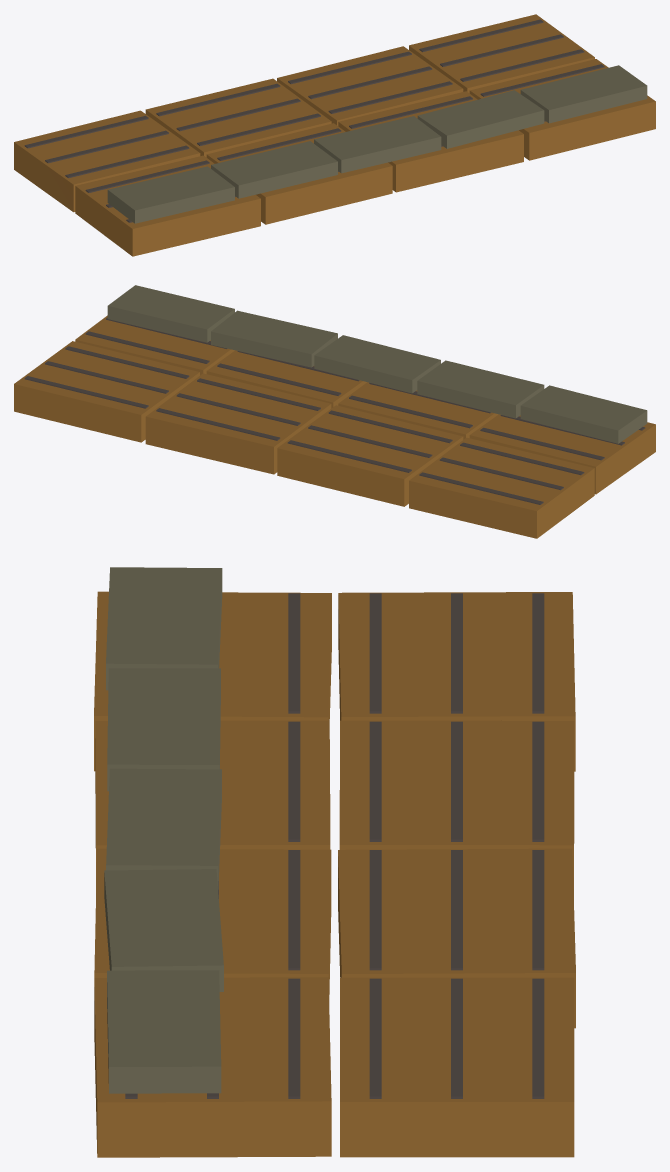
The model's file is SM_Banqueta_v0_LOD0.fbx.
The picture shows the model from 3 angles, top to bottom: view 1: azimuth 30°, elevation 25°; view 2: azimuth 150°, elevation 25°; view 3: azimuth 270°, elevation 25°; orthographic projection. The views are drawn at different scales.
Parts seen in each view (by area): view 1: SM_banqueta_tiro_v0_LOD0; view 2: SM_banqueta_tiro_v0_LOD0; view 3: SM_banqueta_tiro_v0_LOD0.
Boxes of the visible parts, x1,y1,x2,y2 form: SM_banqueta_tiro_v0_LOD0: (14, 14, 655, 256); SM_banqueta_tiro_v0_LOD0: (14, 285, 655, 538); SM_banqueta_tiro_v0_LOD0: (94, 567, 575, 1157).
Bounding box in the file's own units: 4.95 × 0.385 × 1.98.
